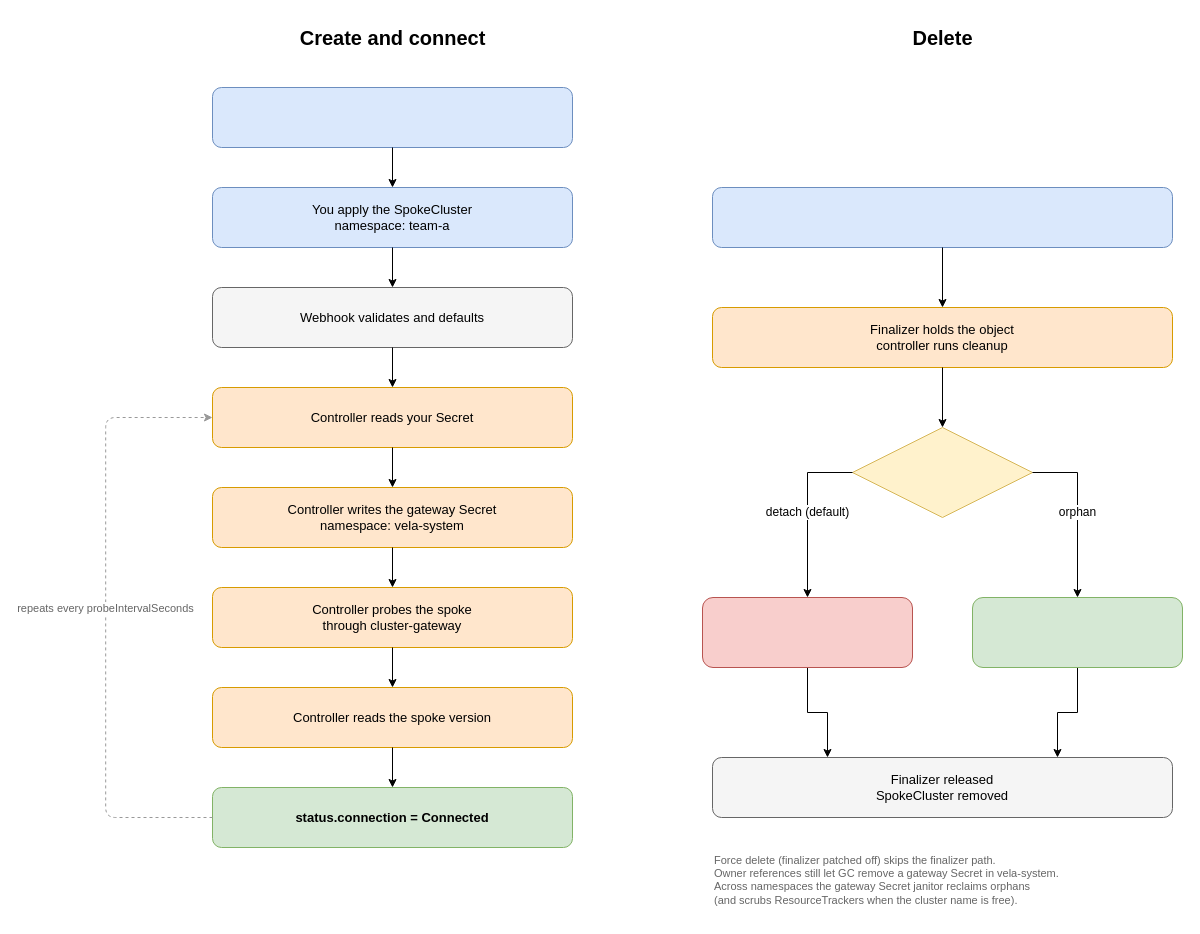
Some shapes in this 1200 by 934 pixel diagram are drawn without their labels. The shapes that lost their labels are listed below. From the top down, each one's centre as x and y in pixels, then its label:
At point 392,117: "You create the kubeconfig Secret namespace: team-a".
At point 942,217: "kubectl delete spokecluster".
At point 942,472: "deletionPolicy?".
At point 807,632: "Gateway Secret DELETED".
At point 1077,632: "Gateway Secret KEPT".
